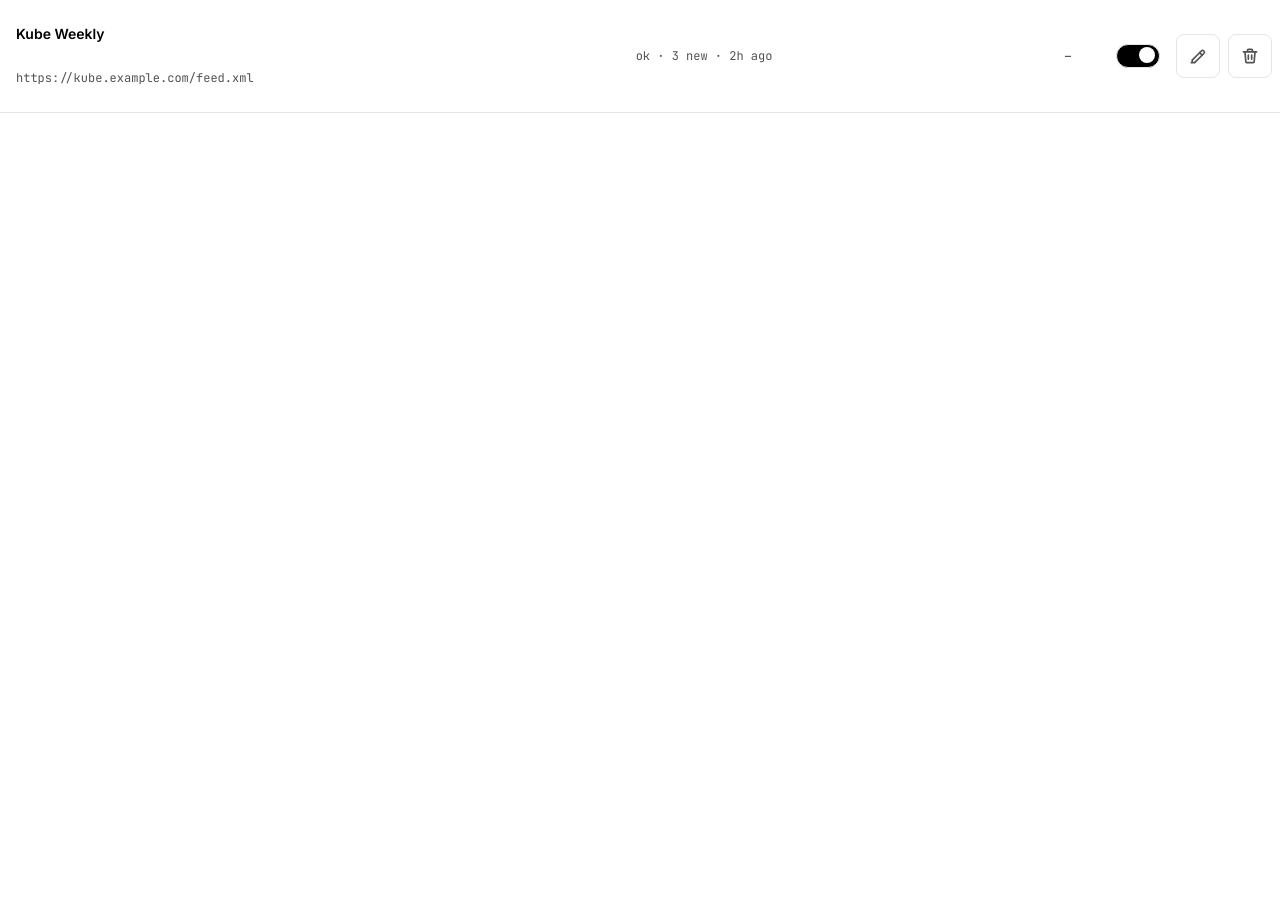
SourceRow icon buttons › Save and Cancel show only an icon, with a tooltip
The image size is (1280, 900).
Click the button named "Edit Kube Weekly".
click(1198, 56)  # box x1=1176 y1=34 x2=1220 y2=78
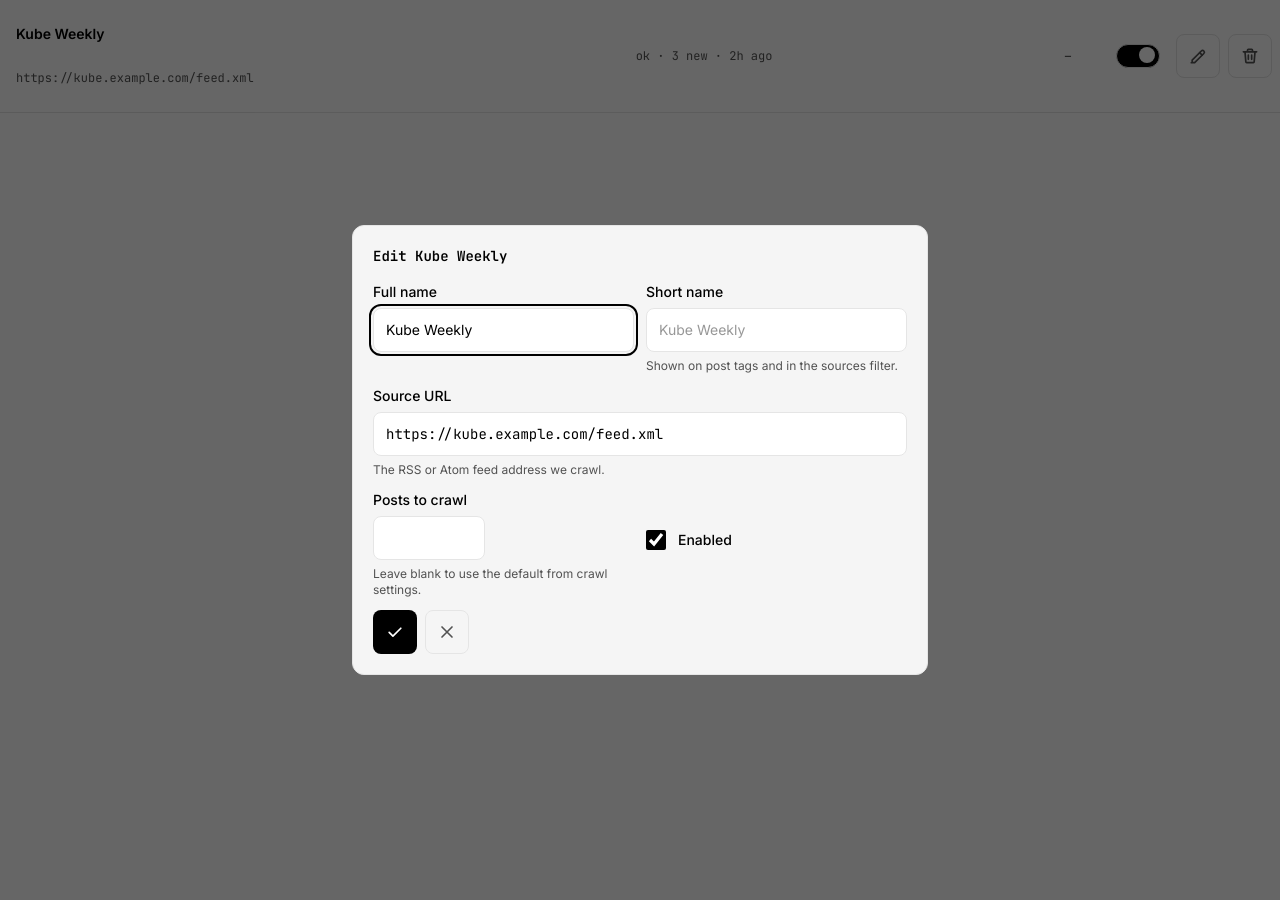
Check: the button named "Save" is empty, box x1=373 y1=610 x2=417 y2=654
Check: the 1st icon is shown, box x1=385 y1=622 x2=405 y2=642
Check: the button named "Cancel" is empty, box x1=425 y1=610 x2=469 y2=654
